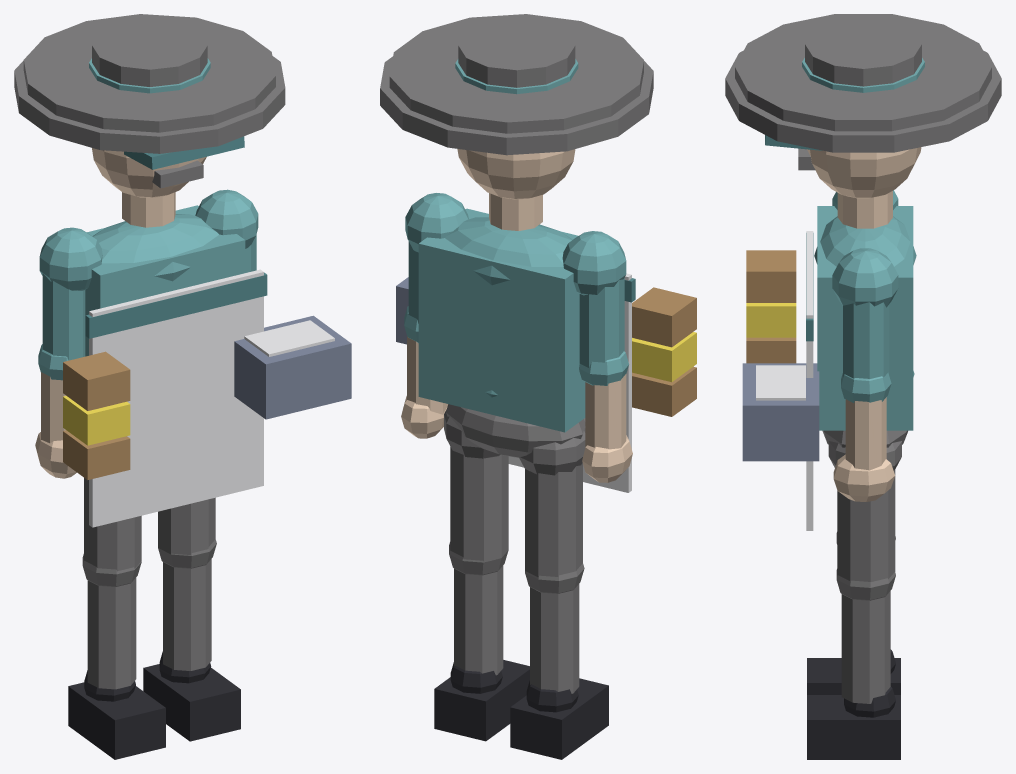
File: vendor.glb
3 renders of one model, left to right at view 1: azimuth 30°, elevation 25°; view 2: azimuth 150°, elevation 25°; view 3: azimuth 270°, elevation 25°, orthographic.
Parts seen in each view (by area): view 1: vendor; view 2: vendor; view 3: vendor.
Part boxes in pixels (box(x1,y1,x2,y2)): vendor: box(14, 14, 351, 759); vendor: box(380, 14, 696, 759); vendor: box(725, 14, 1001, 759).
Size of the model in its own units: 0.795 by 1.97 by 0.72.
